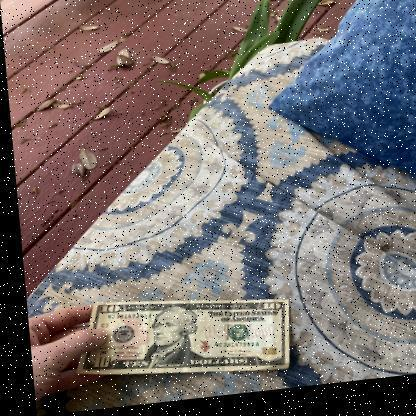dollar_front: (69, 304, 283, 376)
